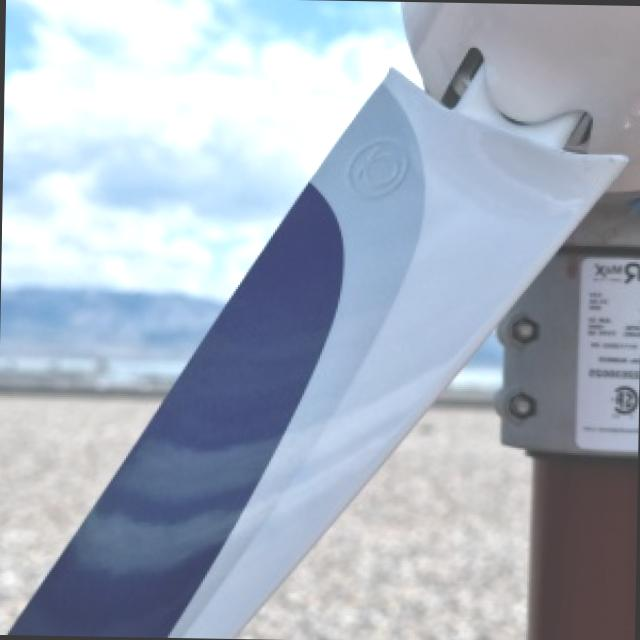healthy: (2, 289, 218, 354)
